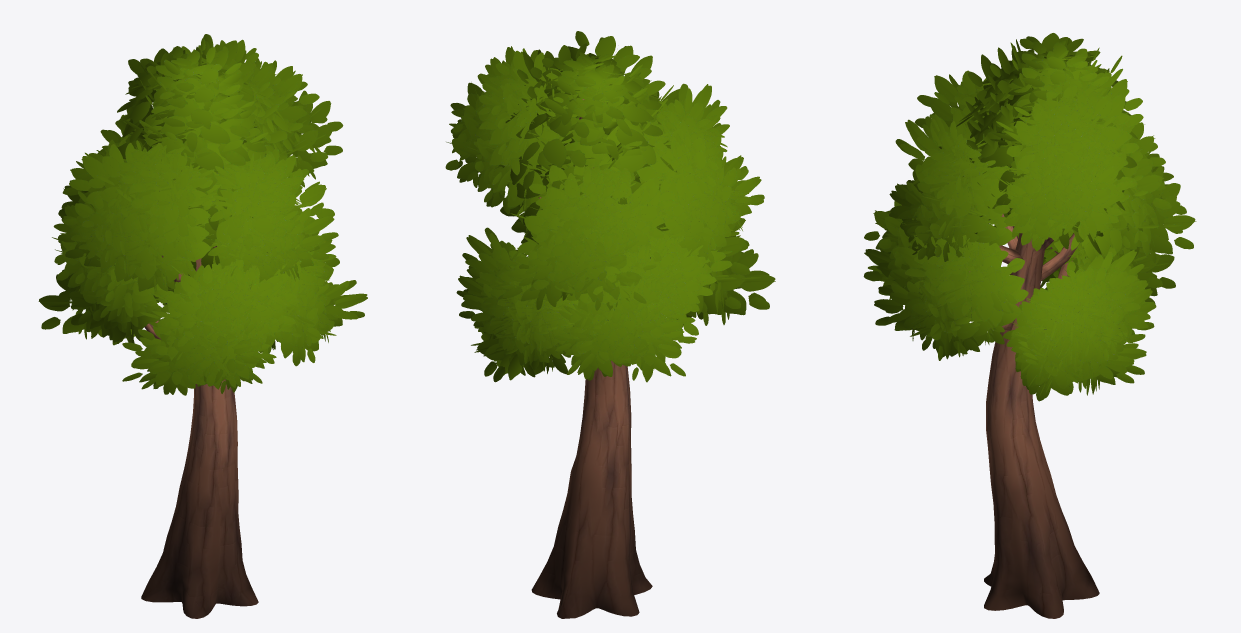
Rendered from oak_1.glb.
The picture shows the model from 3 angles, left to right: view 1: azimuth 30°, elevation 25°; view 2: azimuth 150°, elevation 25°; view 3: azimuth 270°, elevation 25°; orthographic projection. The views are drawn at different scales.
Parts seen in each view (by area): view 1: CommonTree_1; view 2: CommonTree_1; view 3: CommonTree_1.
Boxes of the visible parts, x1=… form: CommonTree_1: x1=38, y1=34, x2=367, y2=618; CommonTree_1: x1=445, y1=31, x2=775, y2=618; CommonTree_1: x1=863, y1=33, x2=1196, y2=618.
Size of the model in its own units: 4.31 by 7.26 by 4.58.
Materials: 2 (2 with a texture image).
